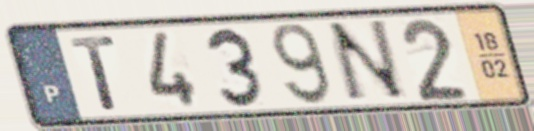2: (398, 14, 473, 104)
3: (204, 25, 263, 111)
4: (146, 28, 202, 112)
9: (266, 21, 336, 108)
N: (323, 16, 413, 105)
T: (66, 33, 121, 113)
